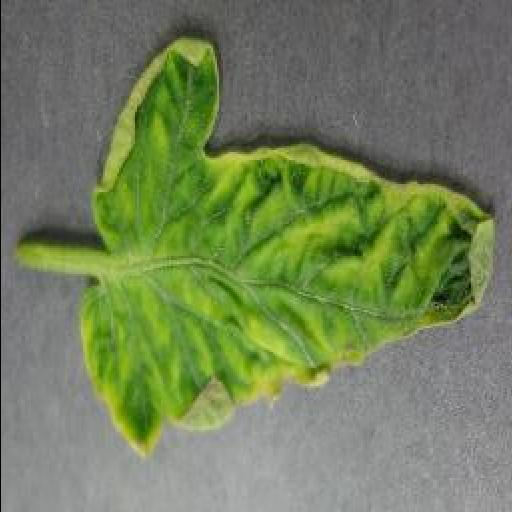disease_tomato: (78, 34, 494, 460)
